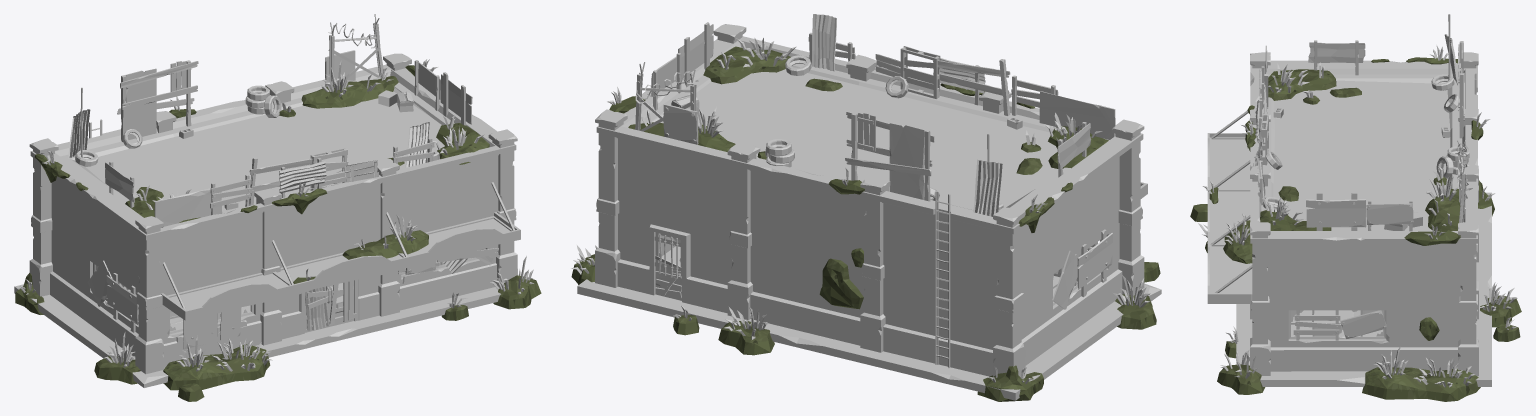
The model's file is SM_Bld_Shop_Medium_02.fbx.
3 views of the same model, side by side, from view 1: azimuth 30°, elevation 25°; view 2: azimuth 150°, elevation 25°; view 3: azimuth 270°, elevation 25° (orthographic). The views are drawn at different scales.
Parts seen in each view (by area): view 1: SM_Bld_Shop_Medium_02; view 2: SM_Bld_Shop_Medium_02; view 3: SM_Bld_Shop_Medium_02.
Part boxes in pixels (x1,y1,x2,y2): SM_Bld_Shop_Medium_02: (14, 14, 541, 401); SM_Bld_Shop_Medium_02: (571, 14, 1161, 401); SM_Bld_Shop_Medium_02: (1190, 14, 1521, 401).
Size of the model in its own units: 1801 by 839 by 1200.
